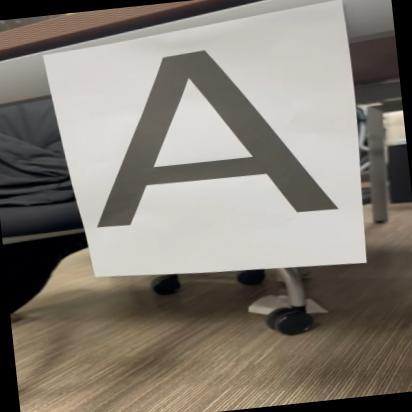seat: (60, 28, 347, 242)
